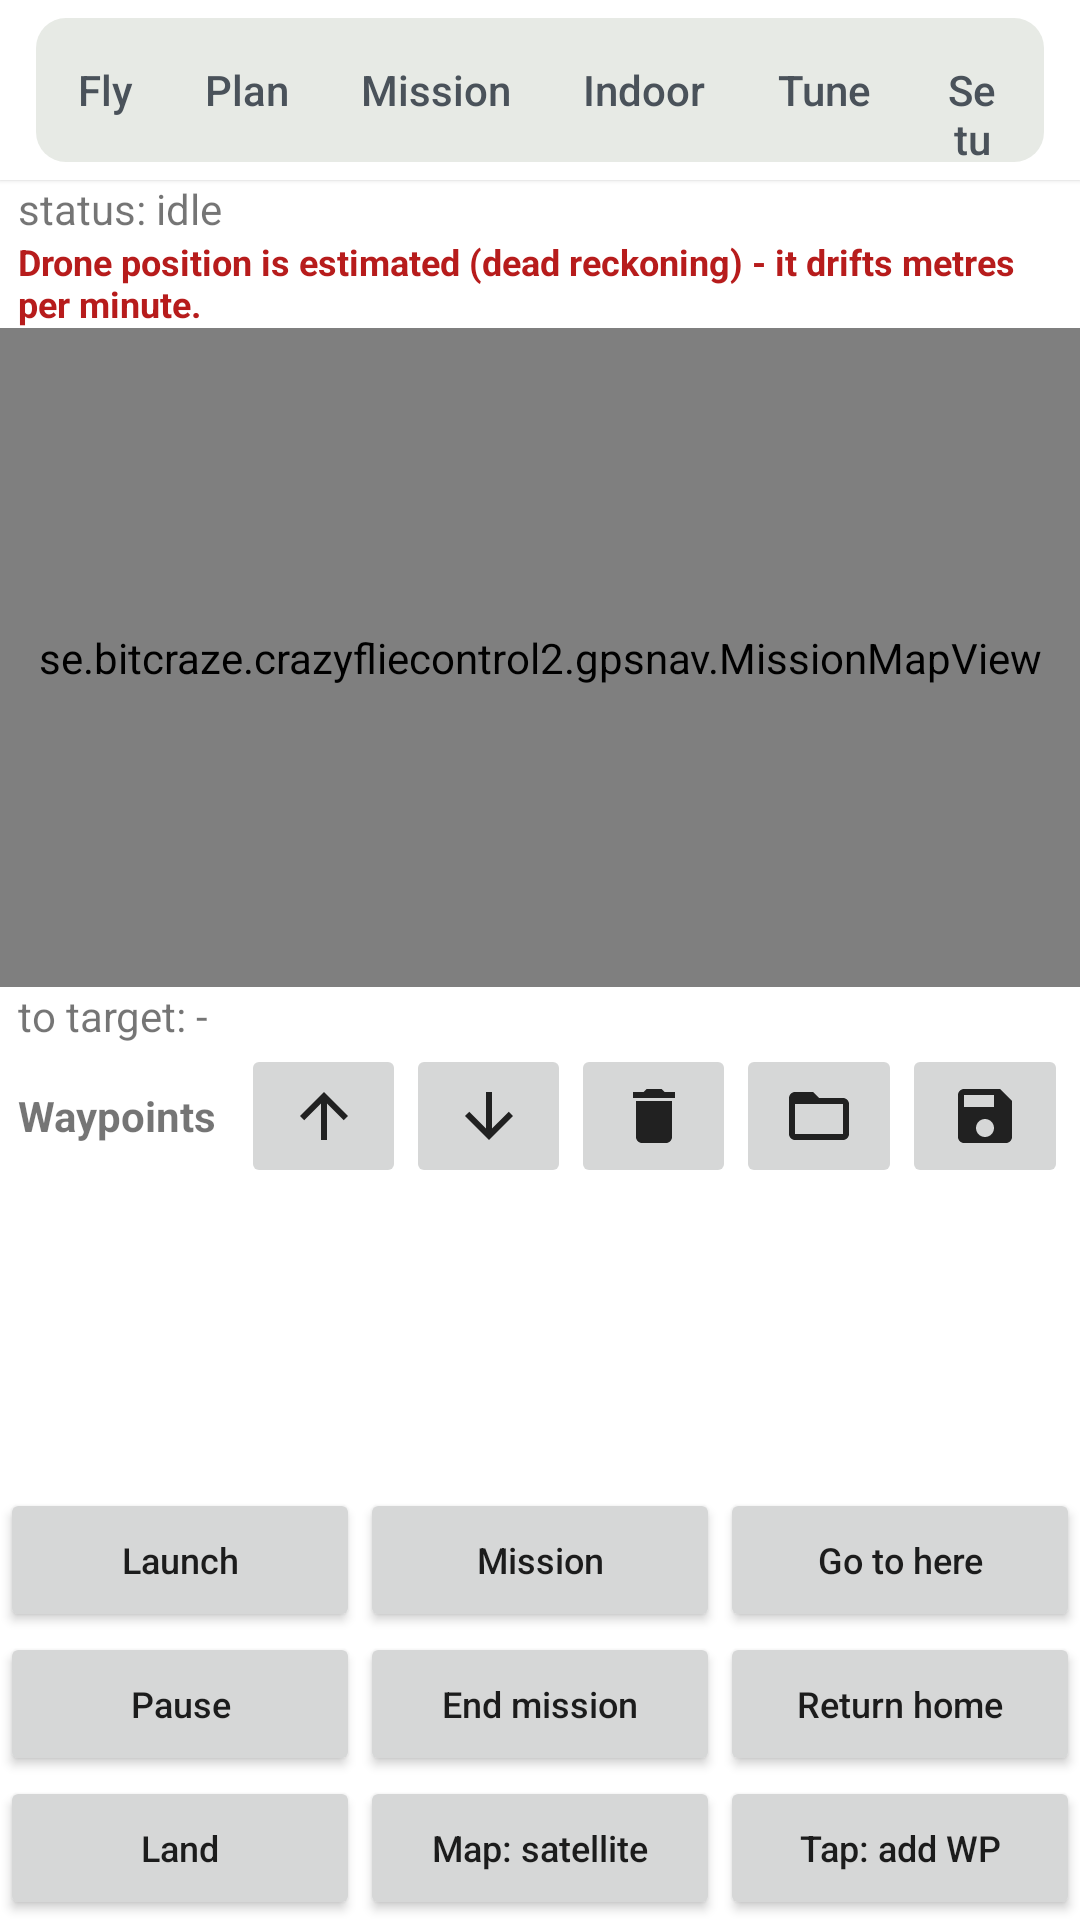

Named icons in this screenshot (1080 x 1920) and their bounding boxes, (x1, y1, x2, y2):
Load mission file: (748, 1062, 890, 1170)
Move waypoint down: (418, 1062, 559, 1170)
Move waypoint up: (253, 1062, 394, 1170)
Remove selected waypoint: (583, 1062, 724, 1170)
Save mission file: (914, 1062, 1056, 1170)
